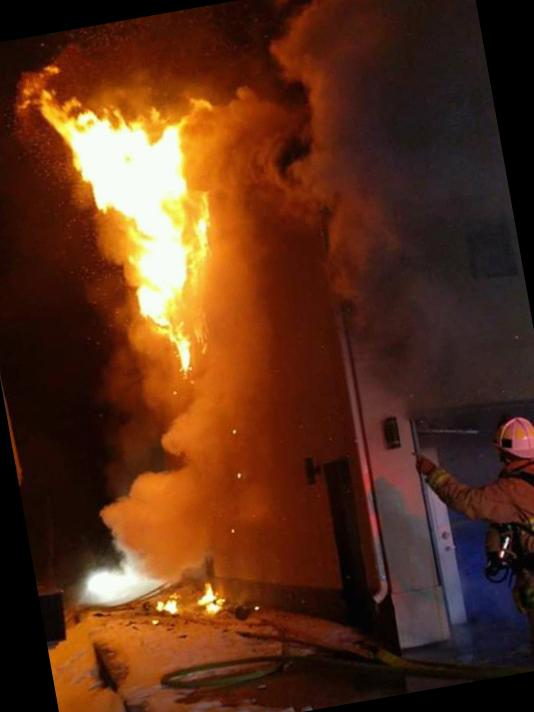Fire: (10, 36, 252, 399), (194, 579, 228, 615), (154, 594, 180, 616)
Smoke: (193, 0, 534, 408), (76, 338, 358, 613)
